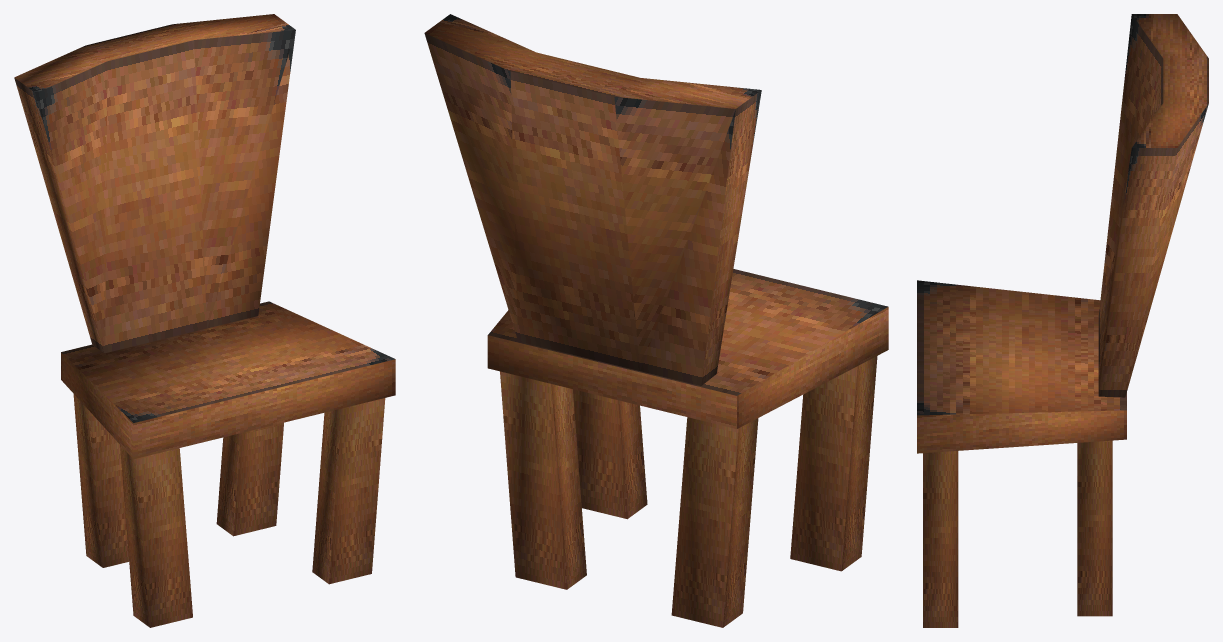
File: CHAIR2_ACTORDEF.fbx
3 renders of one model, left to right at view 1: azimuth 30°, elevation 25°; view 2: azimuth 150°, elevation 25°; view 3: azimuth 270°, elevation 25°, orthographic. The views are drawn at different scales.
Parts seen in each view (by area): view 1: U3DMesh; view 2: U3DMesh; view 3: U3DMesh.
Boxes of the visible parts, bbox=[...] form: U3DMesh: bbox=[14, 14, 395, 627]; U3DMesh: bbox=[424, 14, 888, 627]; U3DMesh: bbox=[917, 14, 1208, 627].
Bounding box in the file's own units: 3.45 × 5.82 × 3.13.
